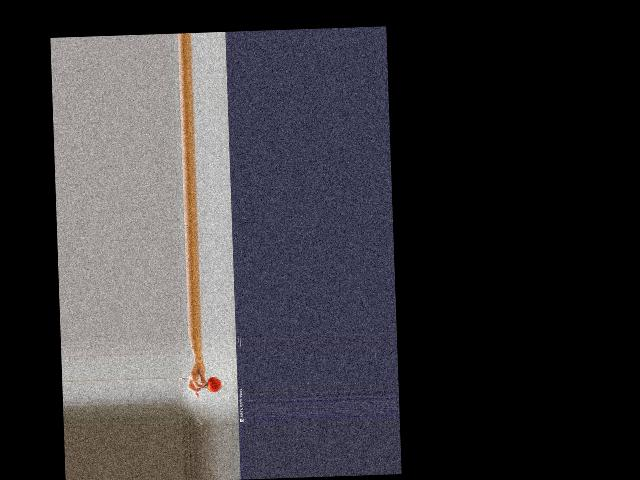tomato: (207, 375, 222, 391)
